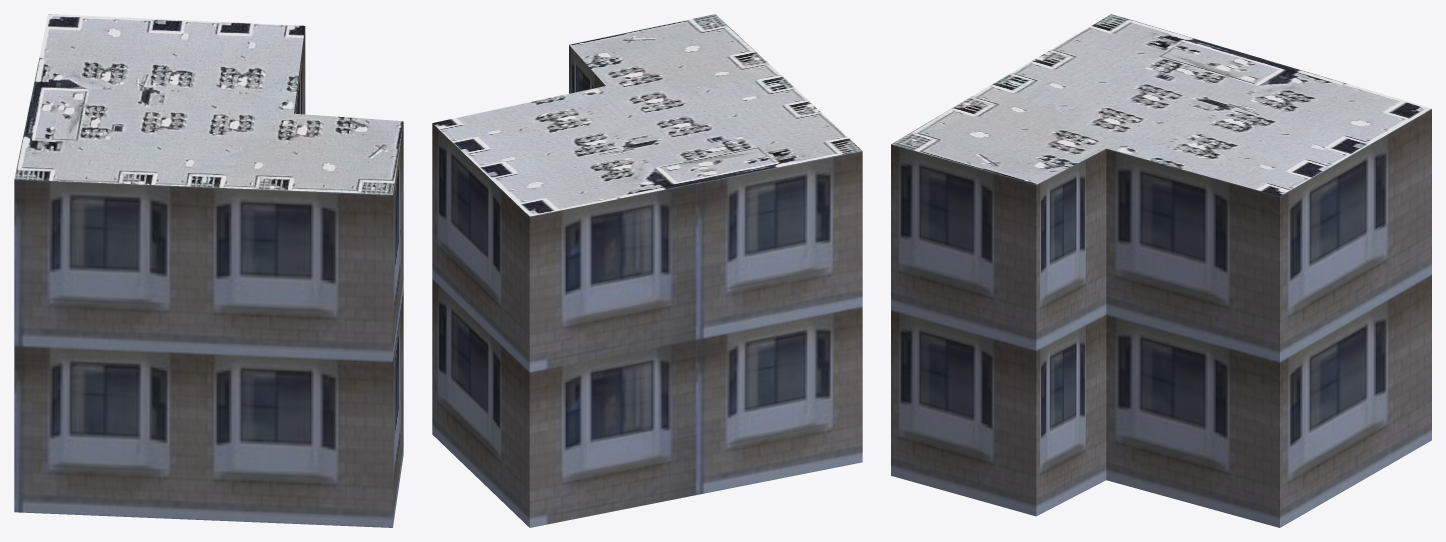
The model's file is ResTex__1931.fbx.
The picture shows the model from 3 angles, left to right: view 1: azimuth 30°, elevation 25°; view 2: azimuth 150°, elevation 25°; view 3: azimuth 270°, elevation 25°; orthographic projection. The views are drawn at different scales.
Visible parts, largest first — view 1: CityEngineMaterial_3_m, CityEngineMaterial_4_m; view 2: CityEngineMaterial_3_m, CityEngineMaterial_4_m; view 3: CityEngineMaterial_3_m, CityEngineMaterial_4_m.
Part boxes in pixels (x1,y1,x2,y2): CityEngineMaterial_3_m: [14, 26, 403, 527]; CityEngineMaterial_4_m: [14, 14, 403, 194]; CityEngineMaterial_3_m: [432, 45, 862, 527]; CityEngineMaterial_4_m: [432, 14, 861, 216]; CityEngineMaterial_3_m: [891, 109, 1431, 527]; CityEngineMaterial_4_m: [891, 14, 1431, 196].
Bounding box in the file's own units: 7.08 × 6 × 8.87.
2 materials, 2 textured.
